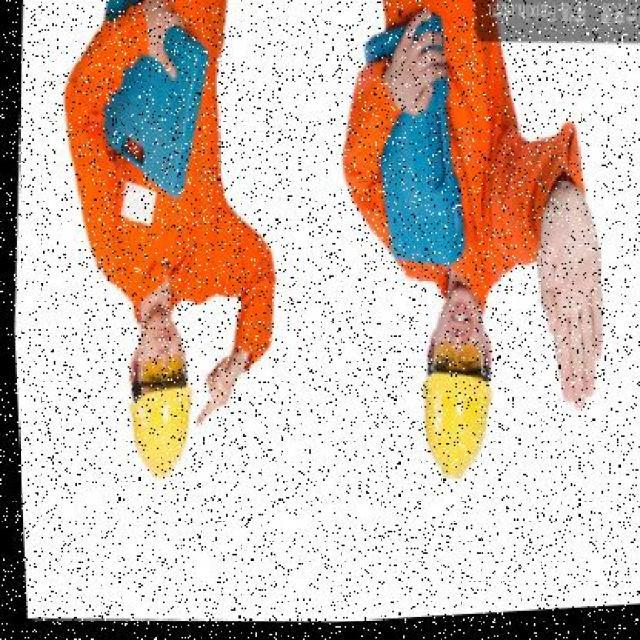helmet: (409, 368, 495, 487), (119, 385, 193, 477)
